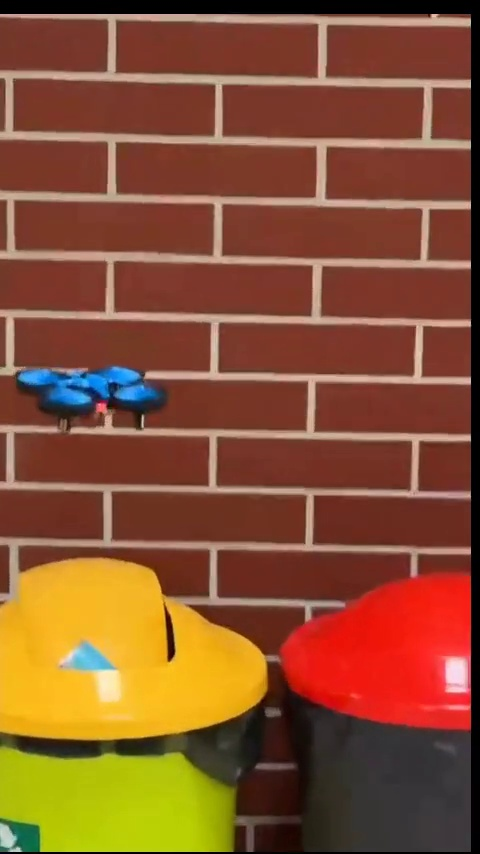drone: (14, 367, 172, 438)
